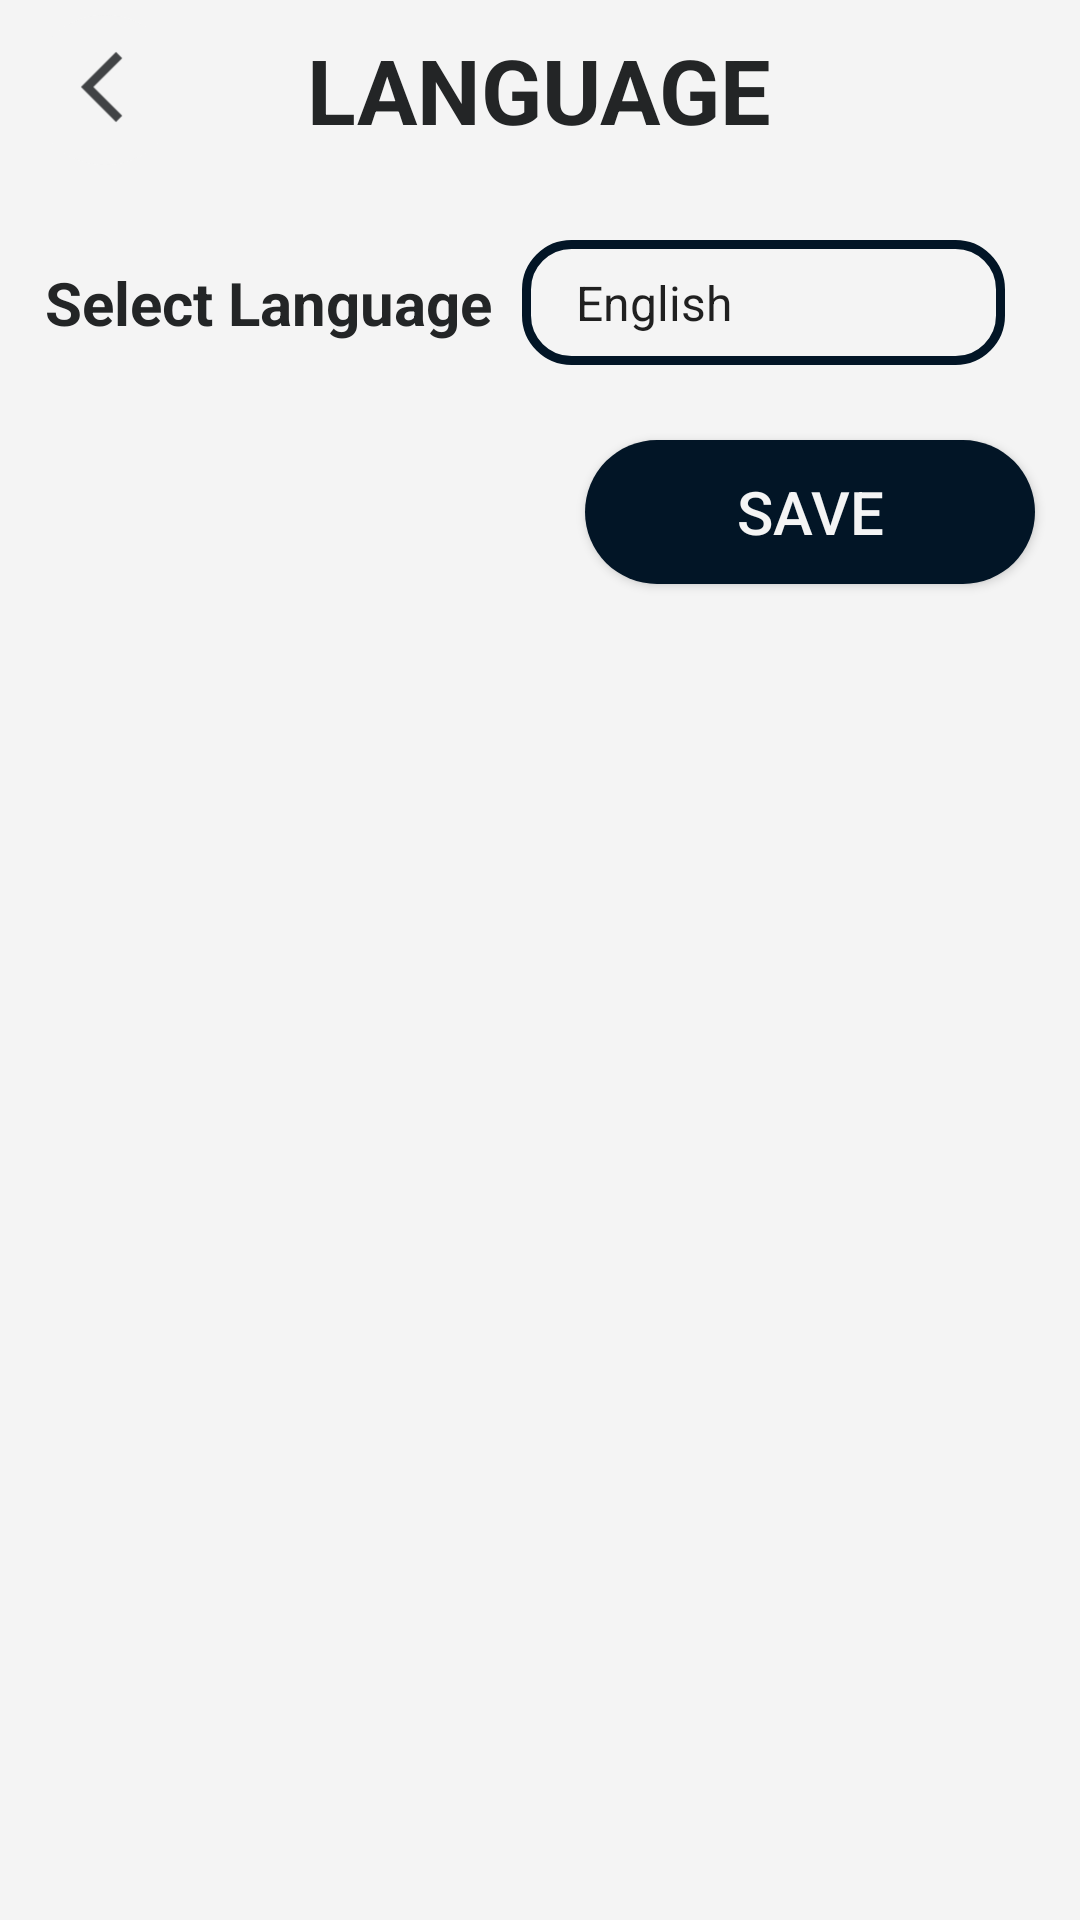

Icons on this 1080 x 1920 Android screen, each with its box as (x1, y1, x2, y2):
back: (81, 52, 122, 122)
